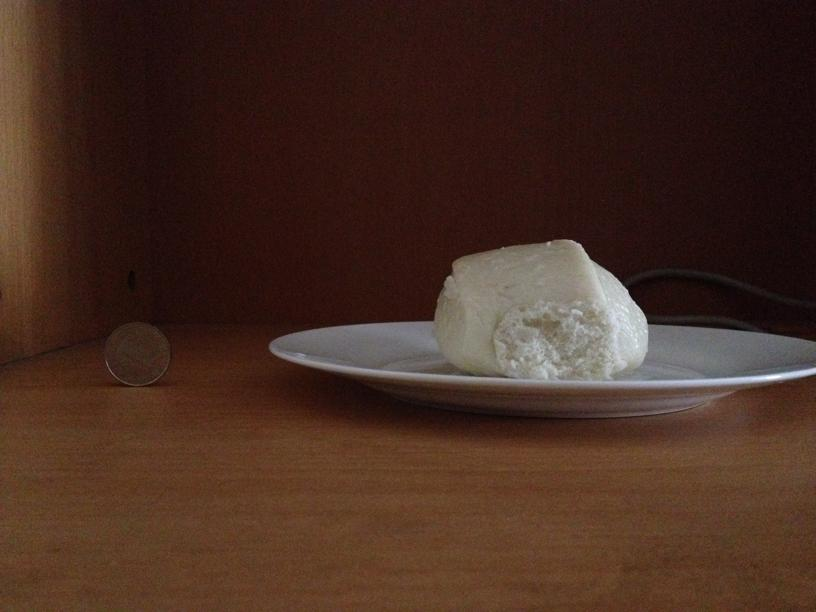bun: (431, 235, 652, 377)
coin: (100, 321, 172, 387)
